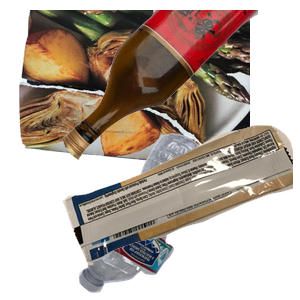glass: (60, 10, 300, 163)
paper: (16, 10, 256, 172)
plastic: (76, 131, 280, 300)
trash: (60, 123, 300, 300)
